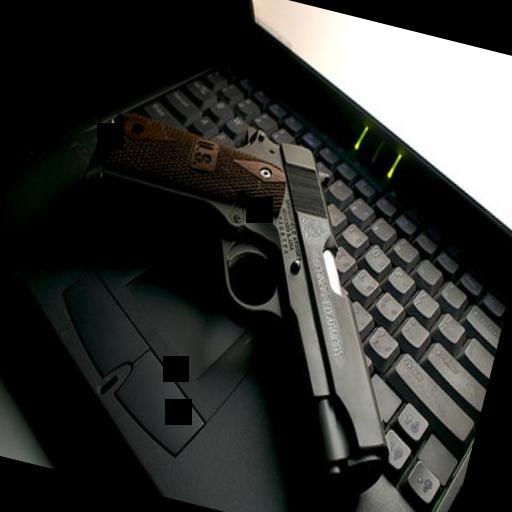Handgun: (28, 100, 454, 502)
